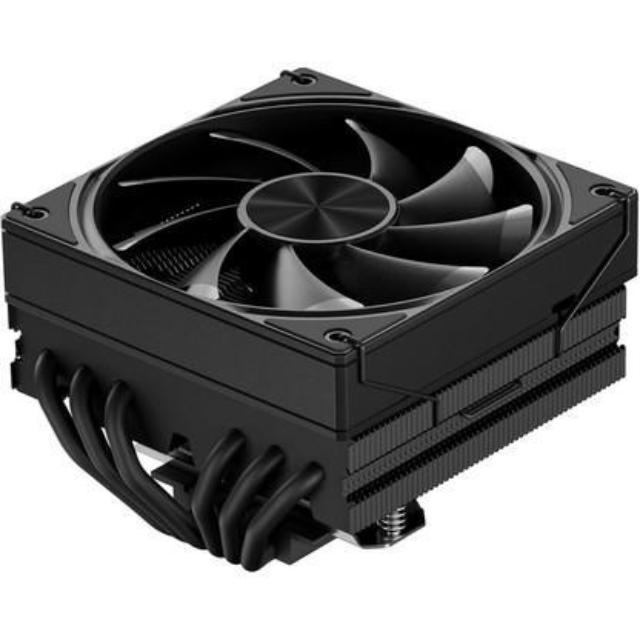CPU_Fan: (0, 54, 640, 583)
